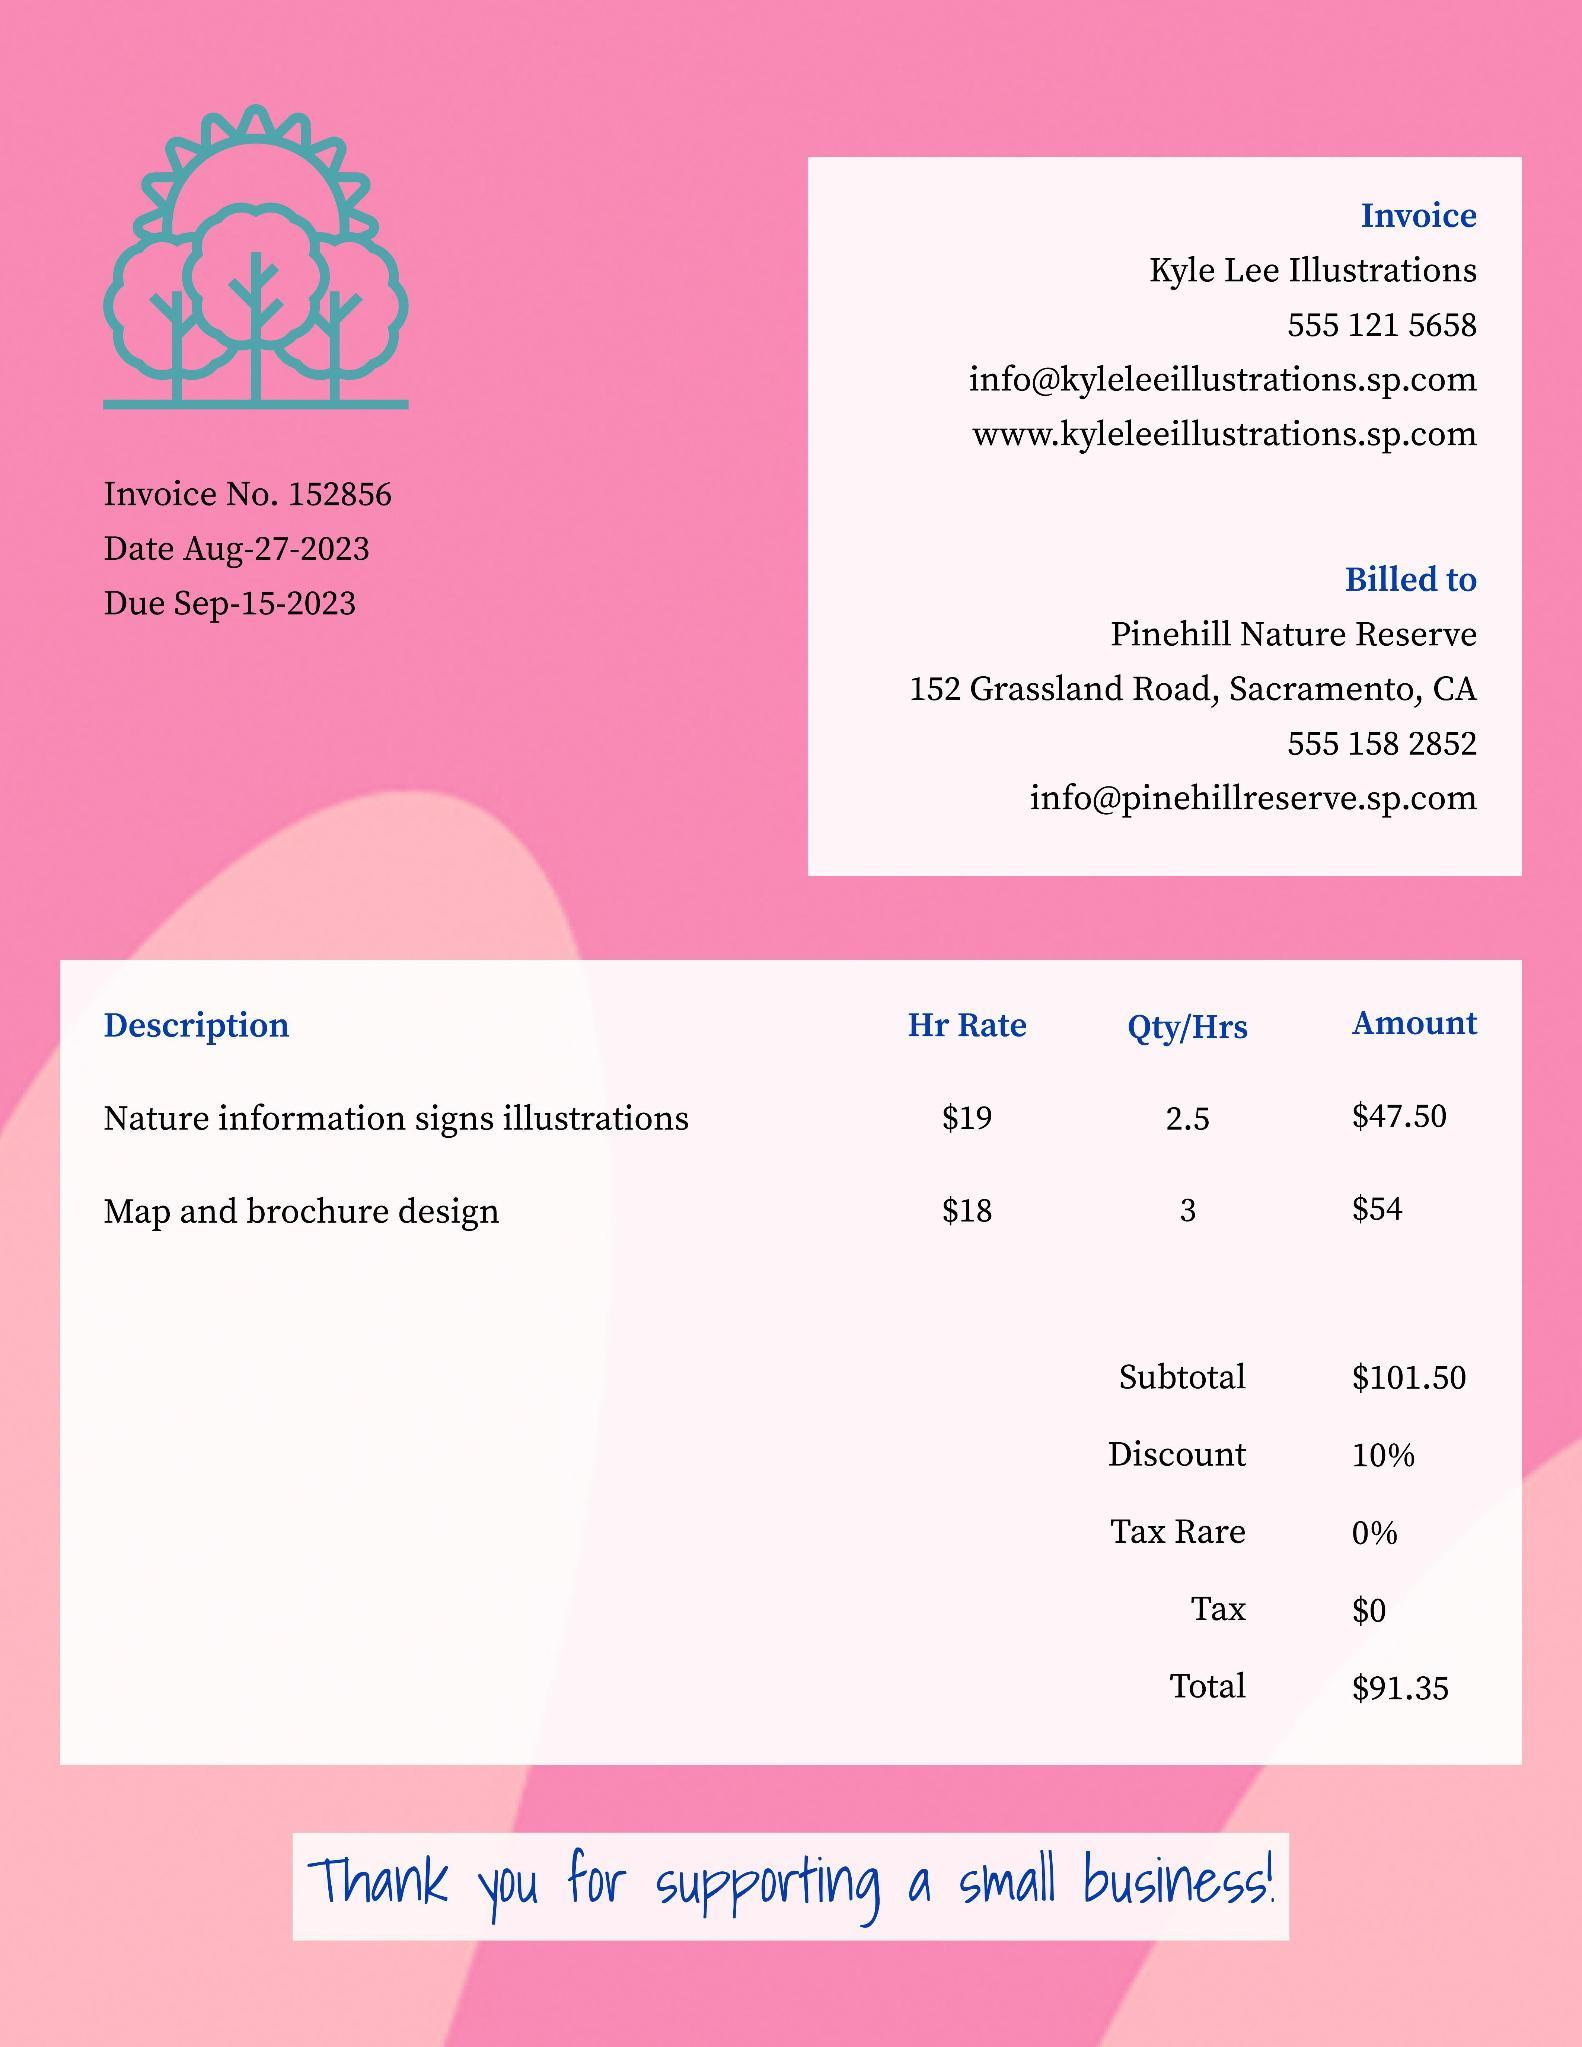ROI: (53, 959, 1522, 1266), (809, 530, 1530, 877), (806, 146, 1521, 474), (1029, 1331, 1512, 1761), (43, 80, 485, 439), (274, 1823, 1304, 1956), (47, 452, 475, 670)
